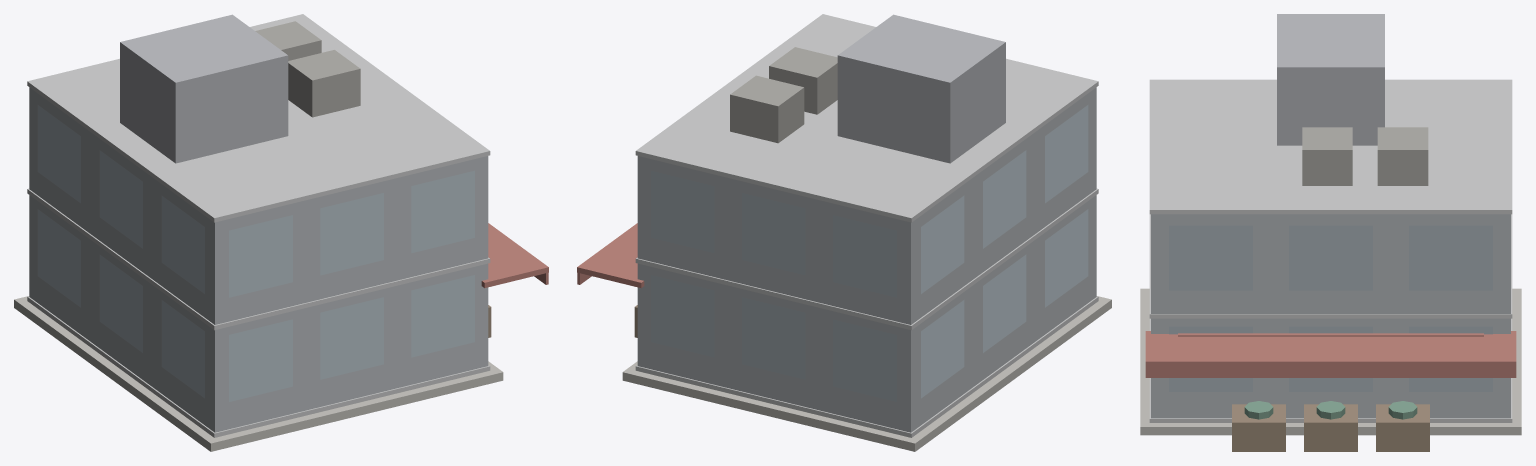
The model's file is 11_retail_shops-02.glb.
3 views of the same model, side by side, from view 1: azimuth 30°, elevation 25°; view 2: azimuth 150°, elevation 25°; view 3: azimuth 270°, elevation 25° (orthographic). The views are drawn at different scales.
Size of the model in its own units: 10.6 by 9.18 by 10.6.
